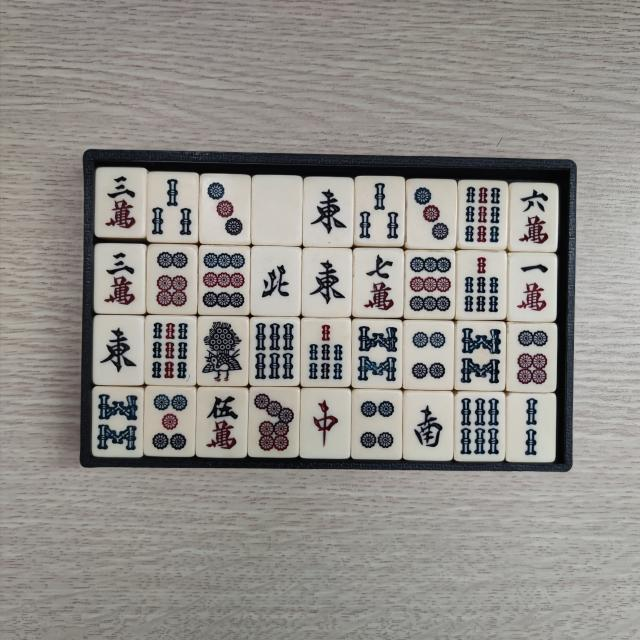hdr: (305, 392, 346, 454)
hdw: (257, 182, 300, 242)
hwe: (307, 252, 350, 313), (308, 182, 350, 243), (96, 321, 138, 381)
hwn: (258, 252, 298, 312)
hws: (408, 397, 448, 457)
sb1: (200, 319, 245, 384)
sb2: (511, 397, 552, 460)
sb3: (150, 177, 196, 240), (356, 178, 400, 242)
sb6: (254, 320, 298, 382), (459, 396, 502, 458)
sb7: (304, 323, 347, 385), (461, 254, 502, 316)
sb8: (458, 324, 502, 388), (95, 392, 140, 454), (355, 322, 398, 386)
sb9: (150, 319, 192, 382), (463, 184, 504, 246)
sc1: (514, 258, 553, 318)
sc3: (102, 173, 144, 234), (101, 248, 142, 310)
sc5: (200, 392, 243, 455)
sc6: (514, 187, 553, 248)
sc7: (359, 252, 401, 316)
sd3: (204, 179, 246, 242), (410, 183, 452, 244)
sd4: (358, 394, 400, 454), (409, 326, 450, 386)
sd5: (151, 391, 192, 453)
sd6: (153, 250, 194, 312), (512, 327, 552, 389)
sd7: (254, 391, 298, 454)
sd9: (202, 251, 248, 311), (408, 255, 453, 316)
